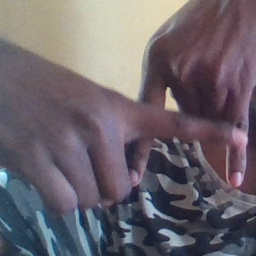H: (105, 54, 251, 195)
